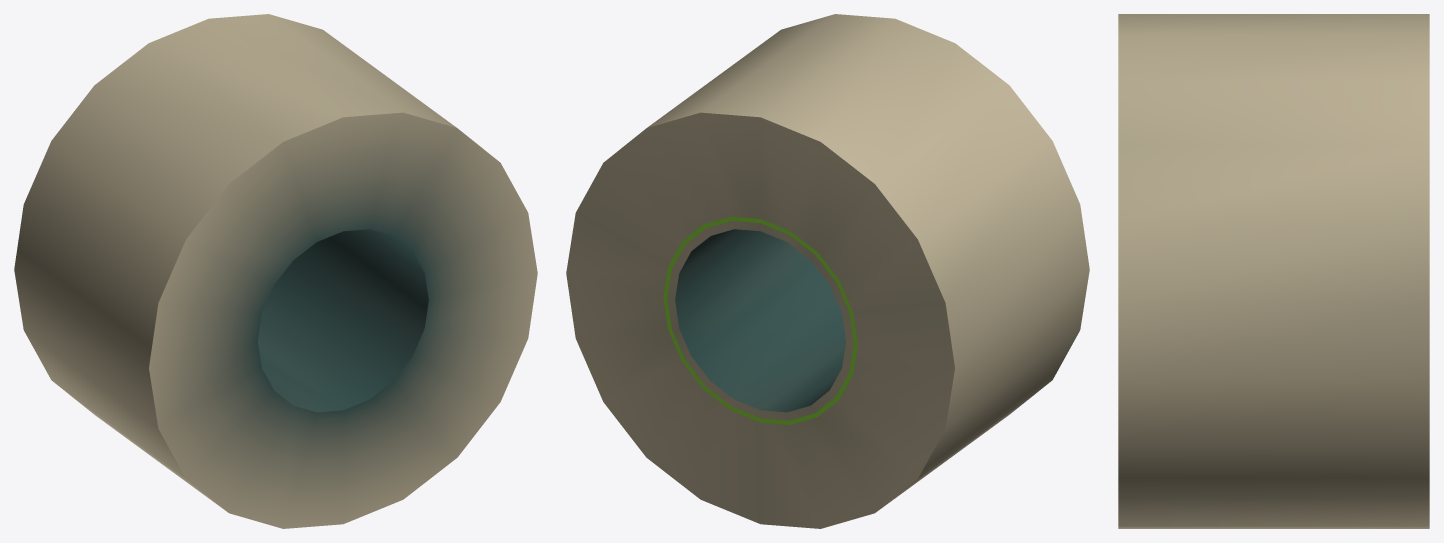
File: impeller_hub.glb
3 renders of one model, left to right at view 1: azimuth 30°, elevation 25°; view 2: azimuth 150°, elevation 25°; view 3: azimuth 270°, elevation 25°, orthographic. The views are drawn at different scales.
Visible parts, largest first — view 1: Hub; view 2: Hub; view 3: Hub.
Part boxes in pixels (<box>): Hub: <box>14,14,537,528</box>; Hub: <box>566,14,1089,528</box>; Hub: <box>1118,14,1429,528</box>.
Bounding box in the file's own units: 5 × 5 × 3.
